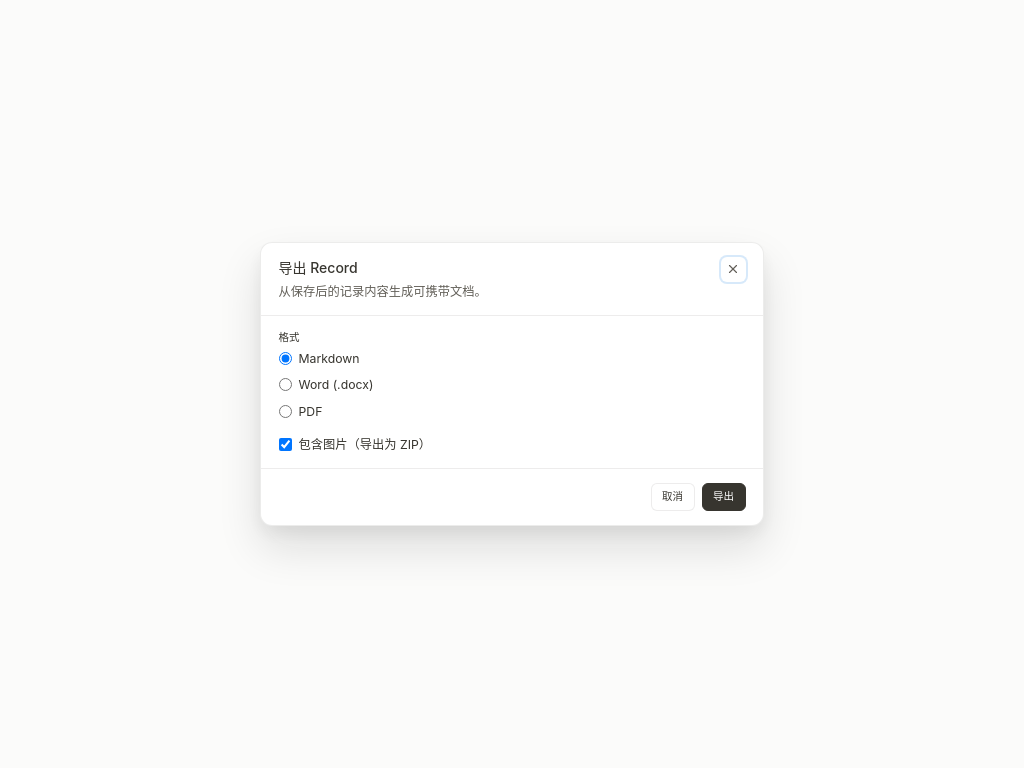
Test case: RecordExportDialog thin UI boundary › defaults to Markdown with images and forwards an explicit format request
Expected: the radio button labelled "Markdown" is checked, [278,352,292,365]
Expected: the checkbox labelled "包含图片（导出为 ZIP）" is checked, [278,438,292,451]
Click the radio button labelled "Word (.docx)". click: x=285, y=385
box: [278,378,292,391]
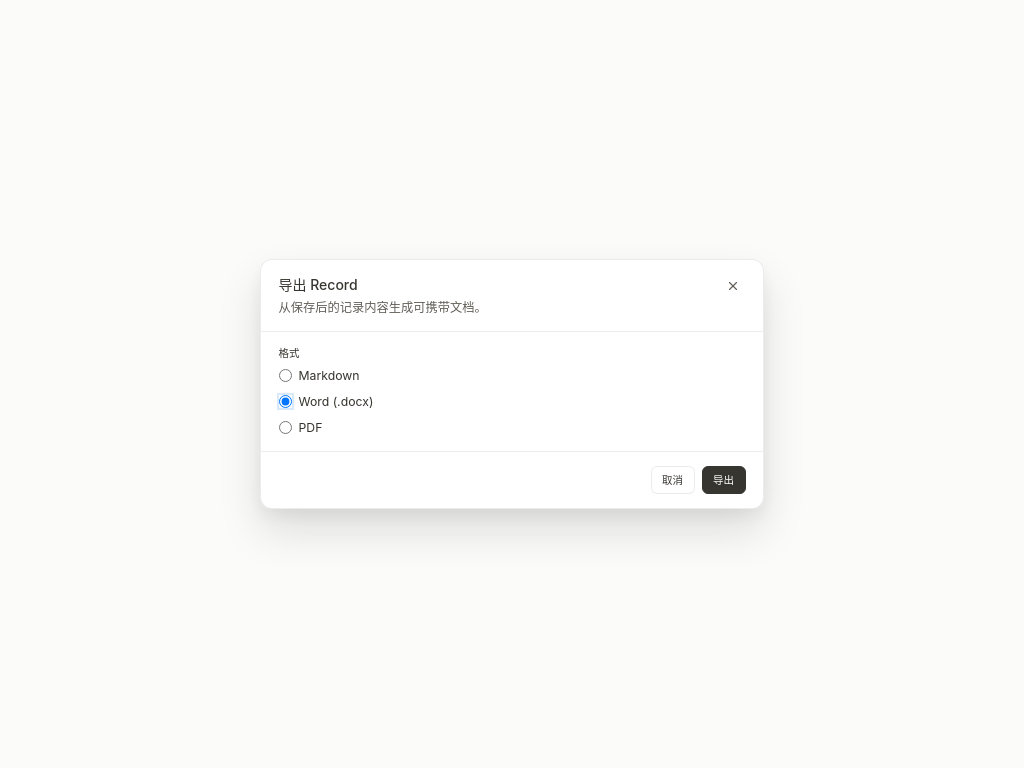
Click the button "导出". click: x=724, y=480
box: [702,466,746,494]
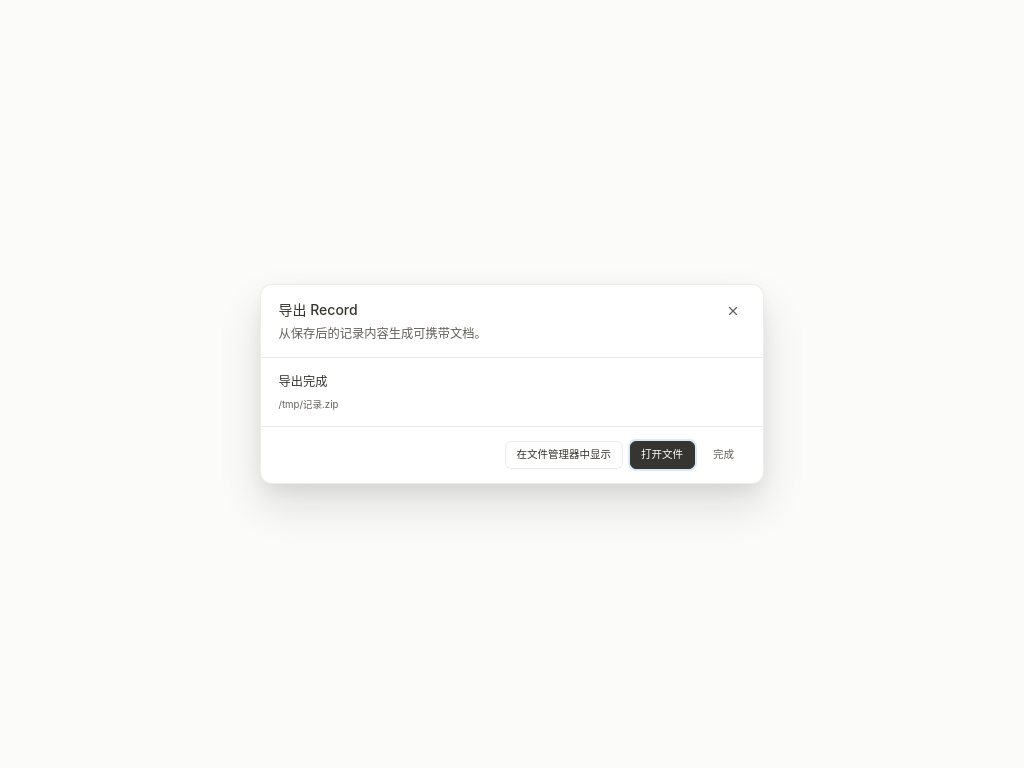
Result: the text "导出完成" is shown at [278,374,328,389]
